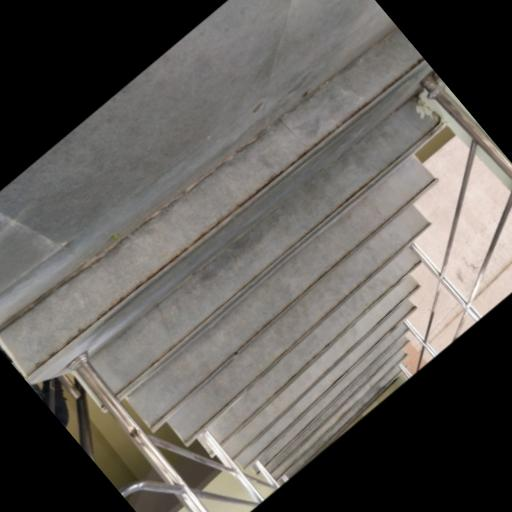stairs: (0, 28, 442, 479)
